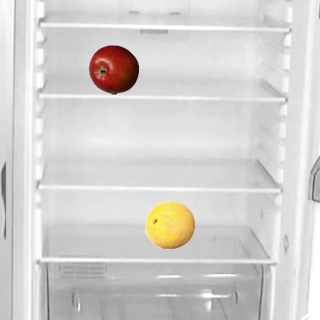Apple Braeburn: (88, 44, 138, 94)
Cantaloupe 1: (144, 199, 194, 249)
